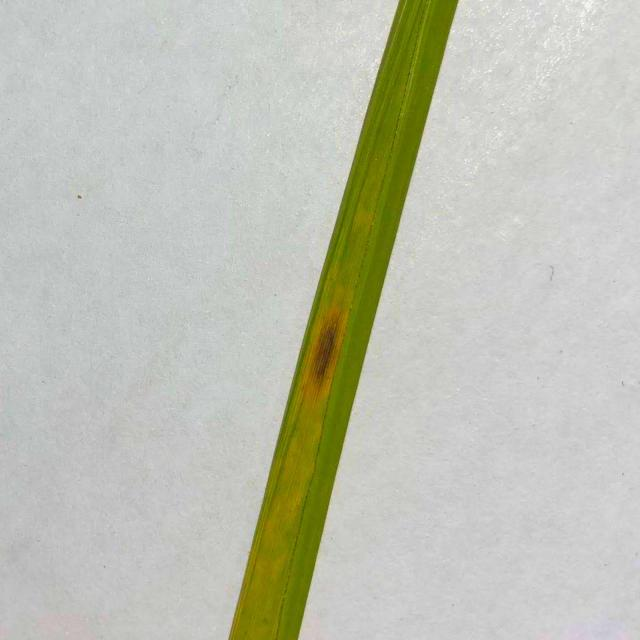Brown spot: (222, 0, 461, 638)
